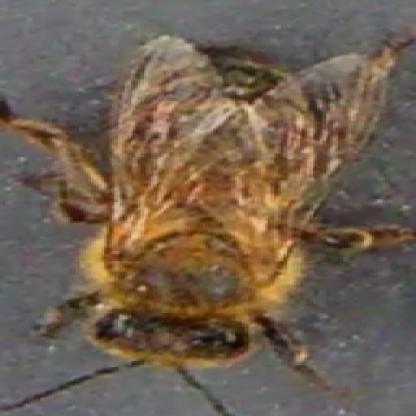bee: (104, 50, 329, 364)
